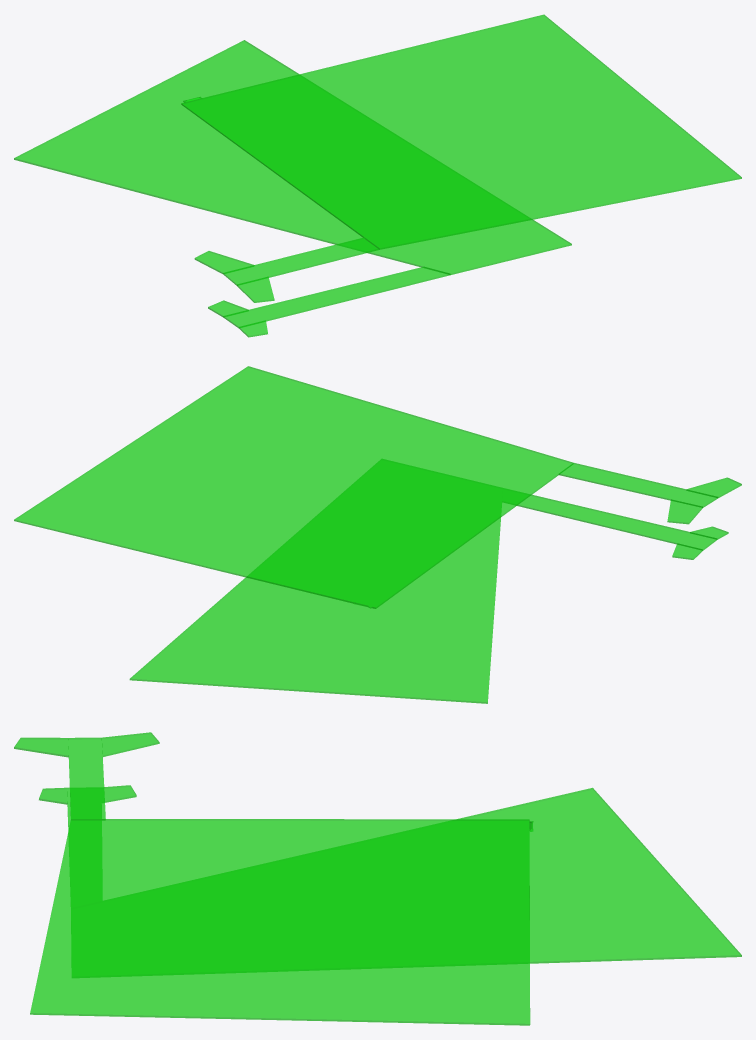
Rendered from parche_13_14_v3.fbx.
3 renders of one model, top to bottom at view 1: azimuth 30°, elevation 25°; view 2: azimuth 150°, elevation 25°; view 3: azimuth 270°, elevation 25°, orthographic. The views are drawn at different scales.
Parts seen in each view (by area): view 1: Colliders_2543, Colliders_2409, Colliders_897, Colliders_890, Colliders_411, Colliders_438; view 2: Colliders_2543, Colliders_2409, Colliders_897, Colliders_890, Colliders_411, Colliders_438; view 3: Colliders_2543, Colliders_2409, Colliders_897, Colliders_890, Colliders_411, Colliders_438, Colliders_785.
Boxes of the visible parts, x1=… form: Colliders_2543: x1=181, y1=14, x2=741, y2=249; Colliders_2409: x1=14, y1=40, x2=571, y2=274; Colliders_897: x1=223, y1=266, x2=450, y2=328; Colliders_890: x1=223, y1=237, x2=379, y2=285; Colliders_411: x1=194, y1=251, x2=254, y2=273; Colliders_438: x1=237, y1=276, x2=274, y2=302; Colliders_2543: x1=14, y1=366, x2=573, y2=608; Colliders_2409: x1=129, y1=459, x2=502, y2=703; Colliders_897: x1=502, y1=488, x2=717, y2=550; Colliders_890: x1=558, y1=463, x2=718, y2=507; Colliders_411: x1=667, y1=499, x2=702, y2=524; Colliders_438: x1=686, y1=477, x2=741, y2=497; Colliders_2543: x1=30, y1=819, x2=530, y2=1025; Colliders_2409: x1=71, y1=787, x2=741, y2=977; Colliders_897: x1=67, y1=787, x2=101, y2=907; Colliders_890: x1=68, y1=737, x2=105, y2=820; Colliders_411: x1=102, y1=732, x2=159, y2=756; Colliders_438: x1=14, y1=737, x2=68, y2=757; Colliders_785: x1=102, y1=785, x2=136, y2=802.
Bounding box in the file's own units: 17185 × 1508 × 18264.
